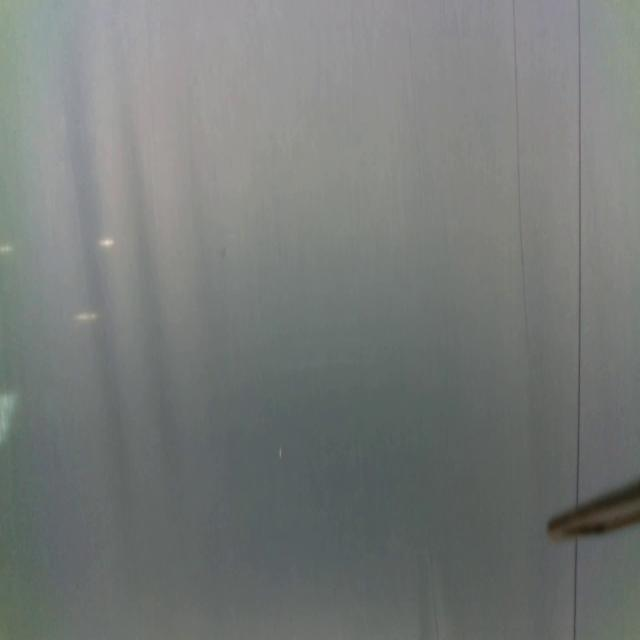crease: (510, 0, 535, 343), (573, 3, 582, 504), (570, 536, 579, 640)
hole: (279, 446, 284, 461)
